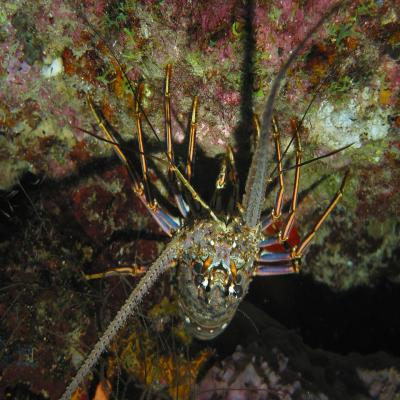lobster: (163, 126, 265, 340)
